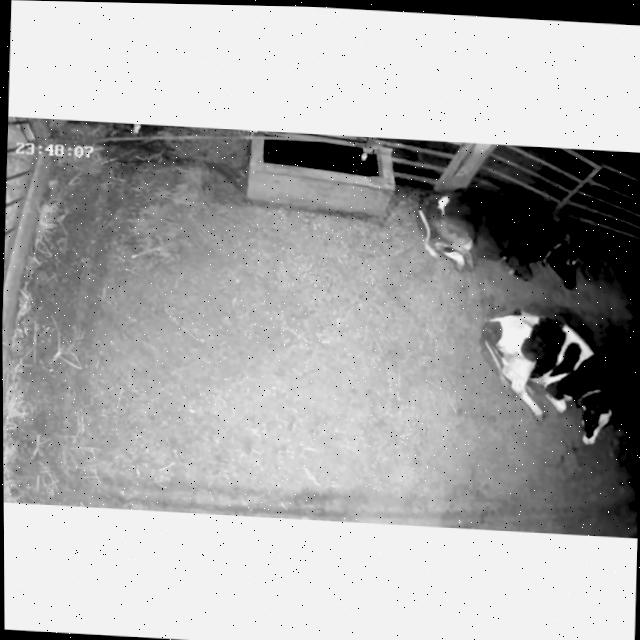lay: (466, 292, 627, 448), (414, 177, 608, 306)
